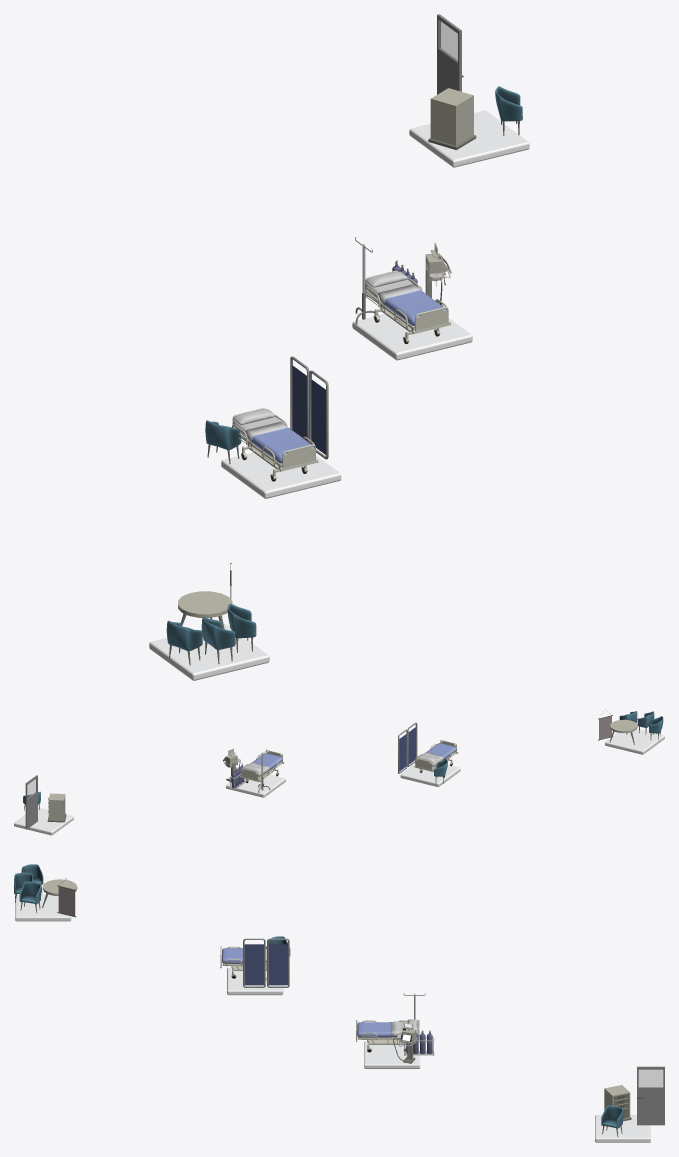
Rendered from er_flow.glb.
3 renders of one model, top to bottom at view 1: azimuth 30°, elevation 25°; view 2: azimuth 150°, elevation 25°; view 3: azimuth 270°, elevation 25°, orthographic. The views are drawn at different scales.
Visible parts, largest first — view 1: prop_treatment_PatientBed, prop_wait_doctor_PatientBed, plate_discharge, plate_wait_doctor, plate_triage, plate_treatment, prop_wait_doctor_Curtain, prop_discharge_Commode, prop_discharge_Door, prop_triage_Table; view 2: plate_triage, prop_treatment_PatientBed, prop_wait_doctor_PatientBed, prop_wait_doctor_Curtain, plate_wait_doctor, plate_discharge, plate_treatment, prop_discharge_Door, prop_discharge_Commode, prop_triage_Table, prop_triage_Sign, prop_treatment_Machine (+4 smaller); view 3: prop_wait_doctor_Curtain, prop_discharge_Door, prop_treatment_PatientBed, plate_treatment, plate_discharge, plate_triage, plate_wait_doctor, prop_discharge_Commode, prop_wait_doctor_PatientBed, prop_treatment_Machine, prop_triage_Sign, prop_discharge_Chair (+2 smaller).
Boxes of the visible parts, left/top/right/bottom form: prop_treatment_PatientBed: left=365, top=270, right=450, bottom=343; prop_wait_doctor_PatientBed: left=231, top=408, right=318, bottom=481; plate_discharge: left=409, top=110, right=529, bottom=167; plate_wait_doctor: left=221, top=452, right=341, bottom=498; plate_triage: left=149, top=624, right=269, bottom=680; plate_treatment: left=352, top=314, right=472, bottom=360; prop_wait_doctor_Curtain: left=290, top=356, right=328, bottom=459; prop_discharge_Commode: left=428, top=88, right=476, bottom=149; prop_discharge_Door: left=437, top=14, right=463, bottom=94; prop_triage_Table: left=178, top=591, right=232, bottom=629; plate_triage: left=605, top=729, right=664, bottom=754; prop_treatment_PatientBed: left=240, top=750, right=284, bottom=785; prop_wait_doctor_PatientBed: left=414, top=740, right=458, bottom=772; prop_wait_doctor_Curtain: left=398, top=722, right=417, bottom=773; plate_wait_doctor: left=400, top=764, right=460, bottom=787; plate_discharge: left=14, top=807, right=73, bottom=835; plate_treatment: left=226, top=774, right=285, bottom=797; prop_discharge_Door: left=25, top=775, right=37, bottom=829; prop_discharge_Commode: left=47, top=793, right=66, bottom=822; prop_triage_Table: left=609, top=719, right=637, bottom=744; prop_triage_Sign: left=598, top=709, right=612, bottom=740; prop_treatment_Machine: left=223, top=748, right=240, bottom=782; prop_wait_doctor_Curtain: left=243, top=938, right=289, bottom=987; prop_discharge_Door: left=637, top=1066, right=664, bottom=1125; prop_treatment_PatientBed: left=356, top=1019, right=419, bottom=1052; plate_treatment: left=364, top=1041, right=420, bottom=1068; plate_discharge: left=595, top=1115, right=650, bottom=1142; plate_triage: left=15, top=894, right=71, bottom=921; plate_wait_doctor: left=227, top=967, right=283, bottom=995; prop_discharge_Commode: left=604, top=1085, right=631, bottom=1121; prop_wait_doctor_PatientBed: left=220, top=946, right=266, bottom=978; prop_treatment_Machine: left=393, top=1022, right=417, bottom=1063; prop_triage_Sign: left=57, top=878, right=76, bottom=917; prop_discharge_Chair: left=601, top=1105, right=623, bottom=1136.
Bounding box in the file's own units: 18.98 × 2.3 × 20.89.
Materials: 15 (9 with a texture image).
